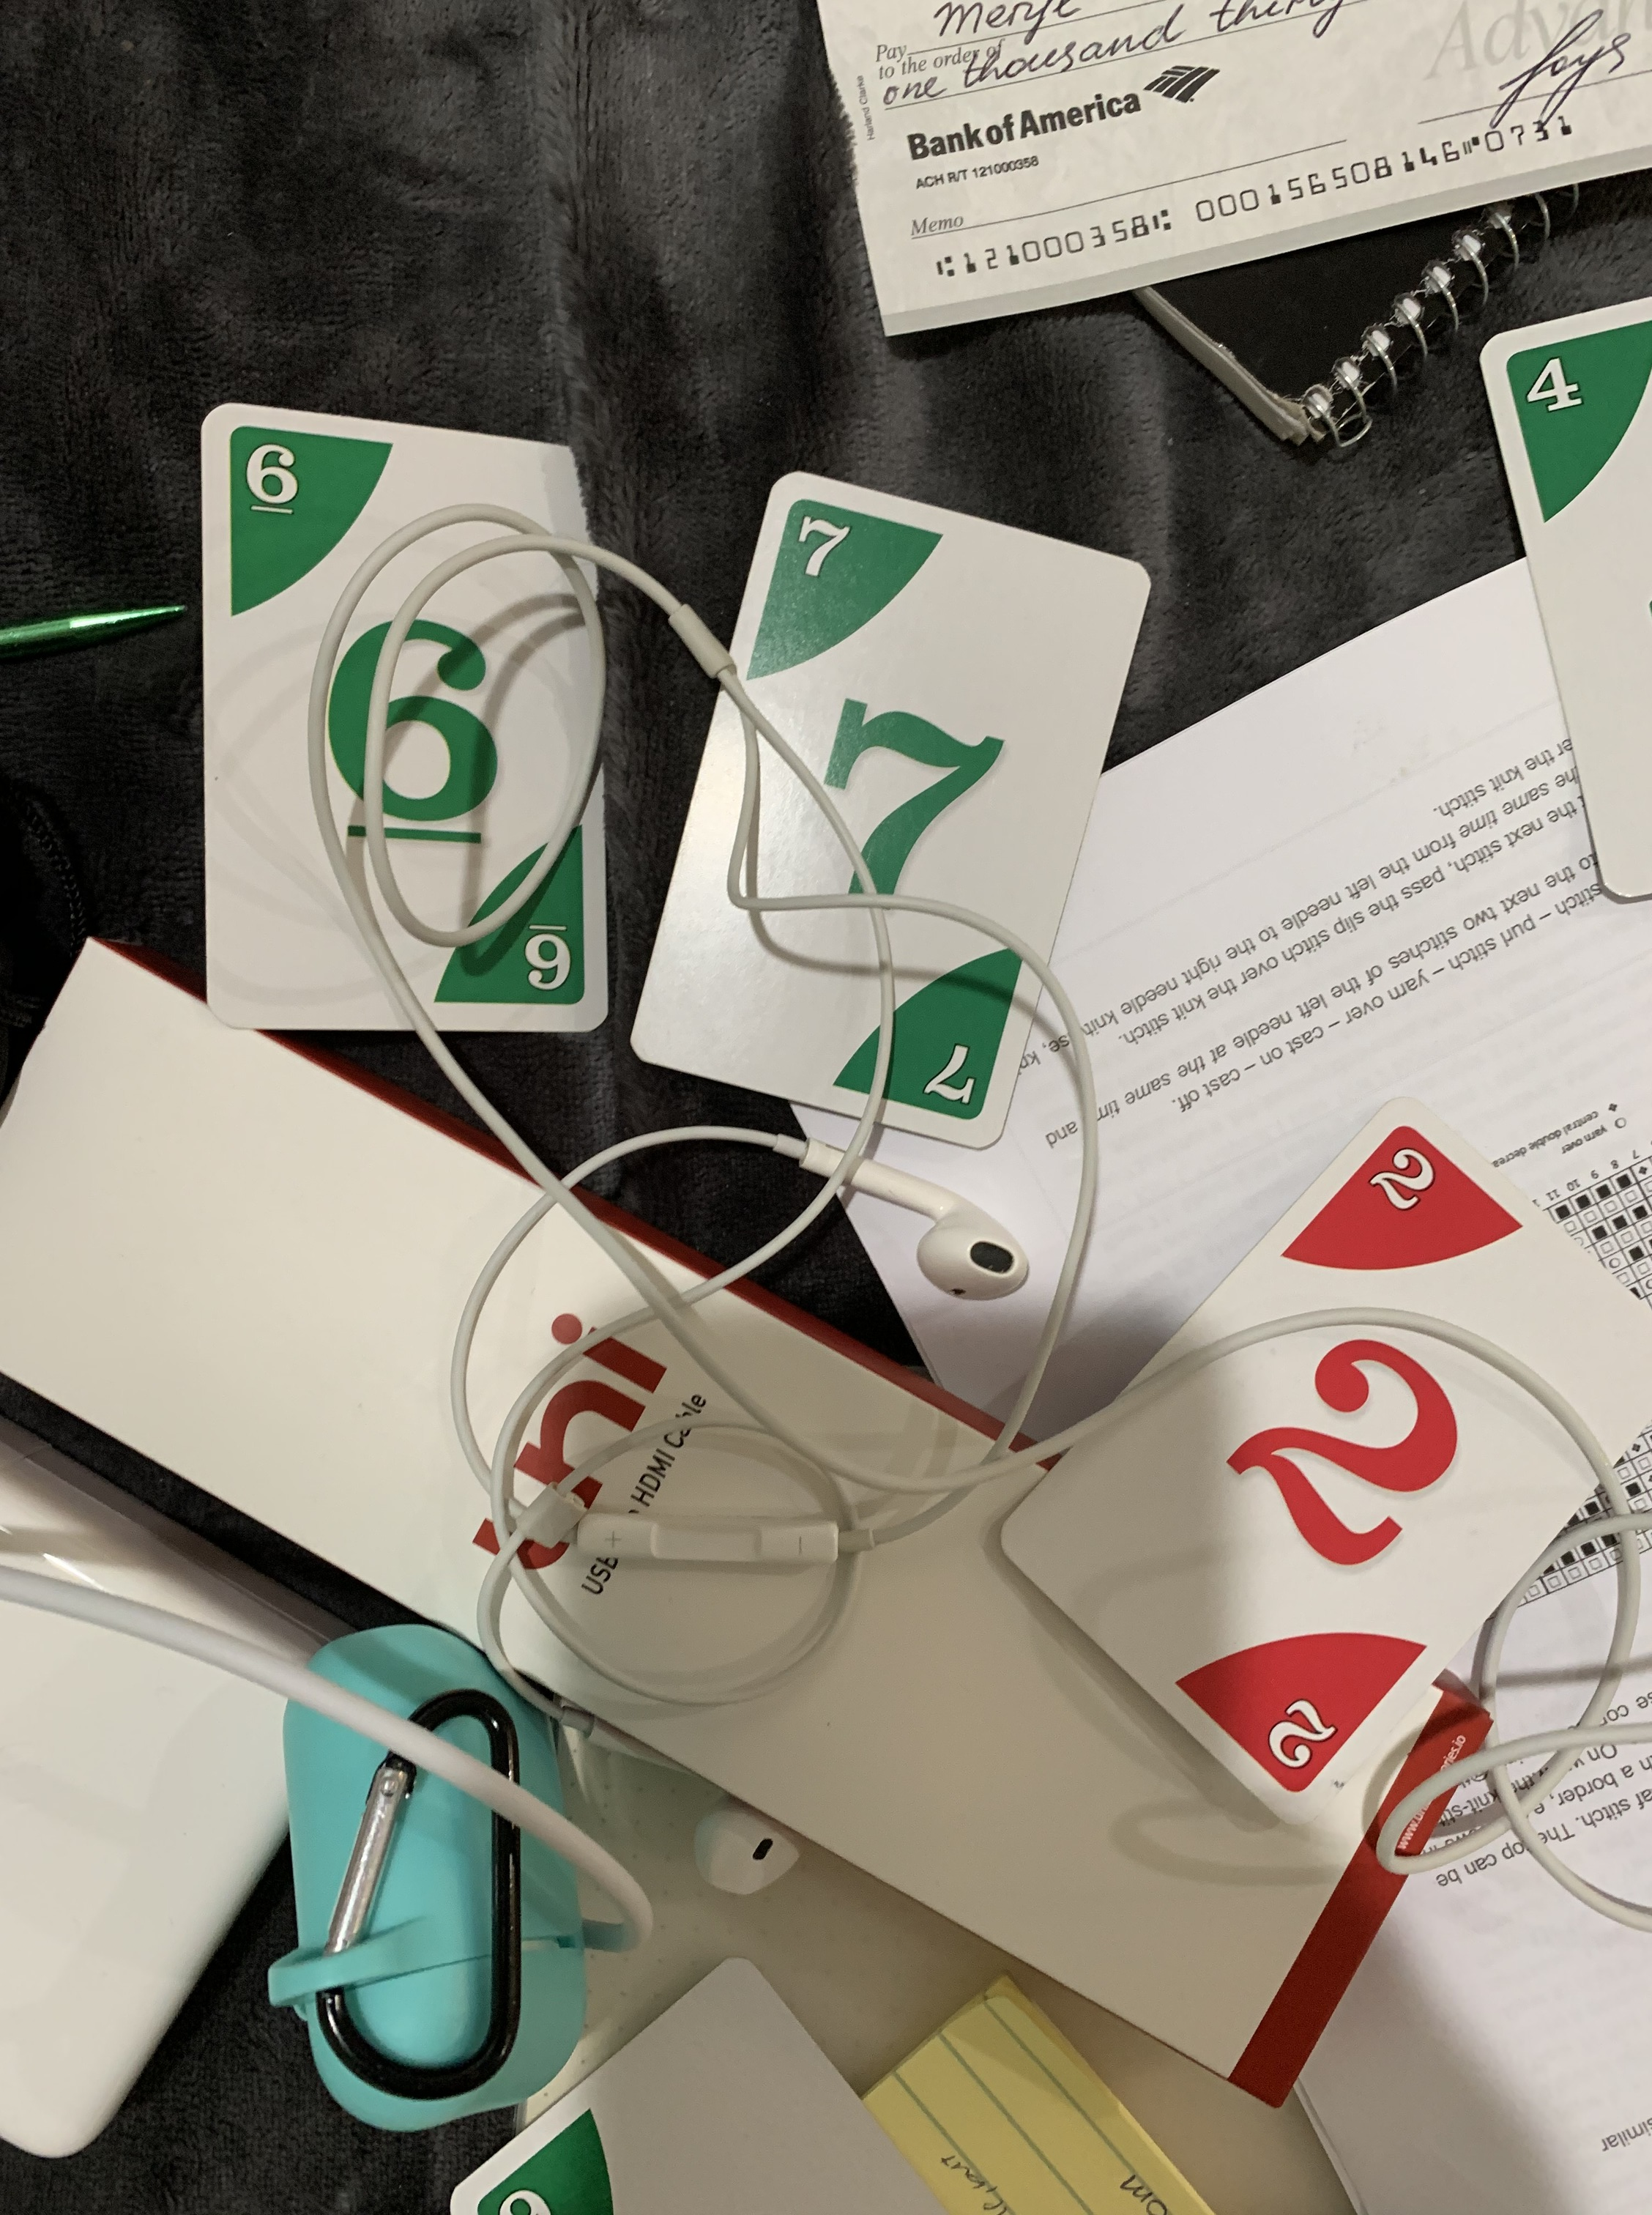seven: (616, 465, 1173, 1165)
six: (180, 399, 628, 1071)
two: (961, 1101, 1652, 1838)
